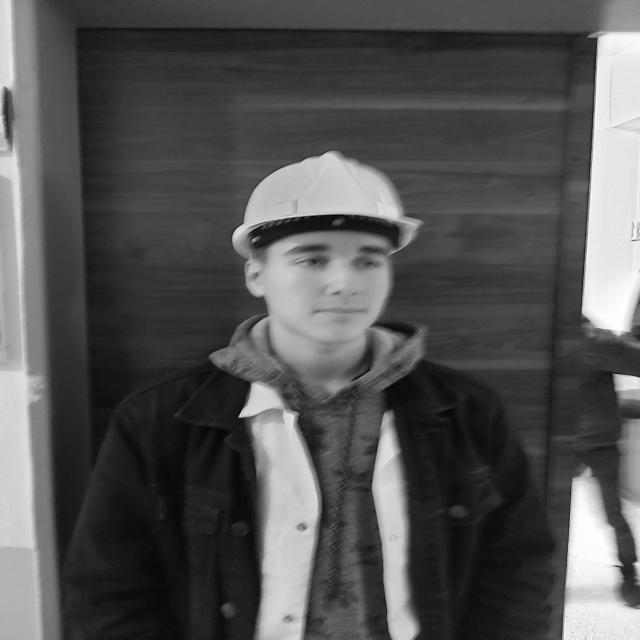safety_helmet: (232, 152, 422, 262)
